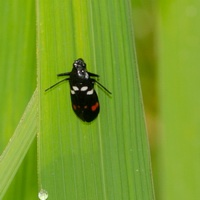insect: (45, 58, 111, 121)
